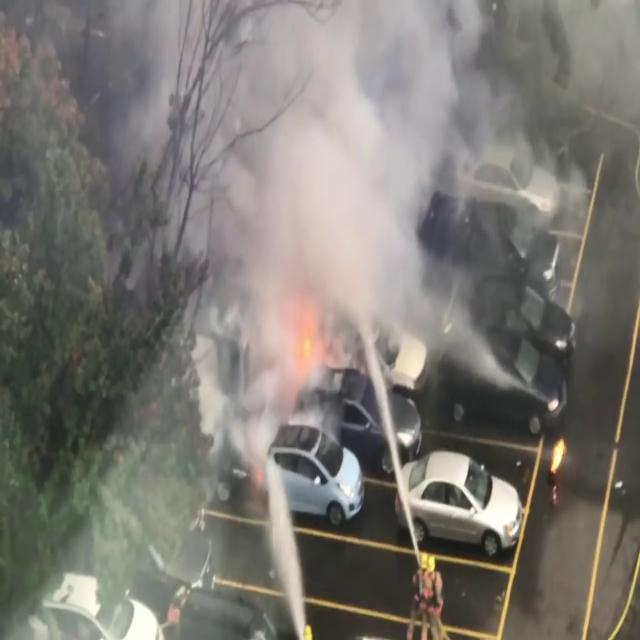Smoke: (194, 0, 639, 333)
